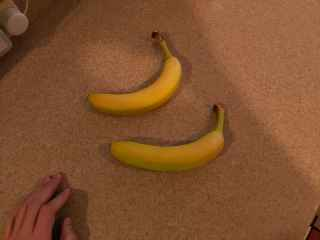banana: (85, 30, 186, 122), (109, 104, 227, 175)
